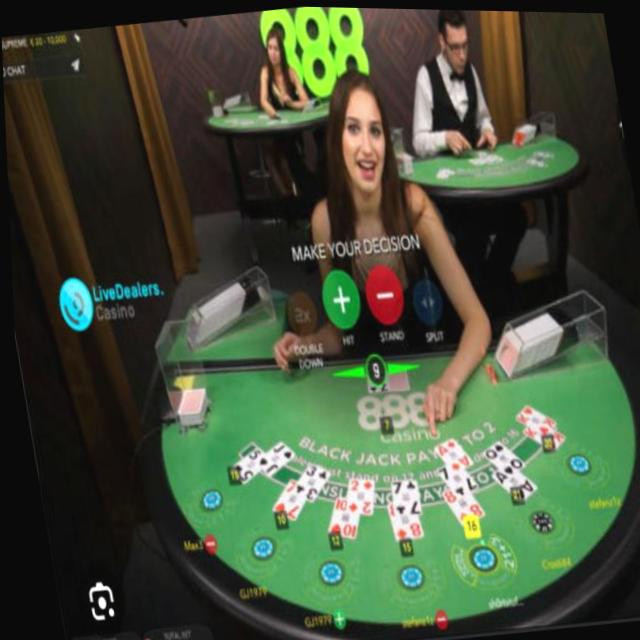Card-10: (323, 496, 354, 537)
Card-2: (341, 477, 370, 513)
Card-3: (288, 462, 326, 502)
Card-5: (227, 444, 260, 484)
Card-7: (432, 461, 475, 498), (267, 475, 300, 520), (386, 478, 417, 515)
Card-8: (436, 485, 480, 526), (383, 501, 419, 540)
Card-A: (487, 466, 534, 501), (429, 435, 469, 473)
Card-J: (249, 439, 290, 477)
Card-K: (510, 402, 553, 437), (518, 425, 562, 447)
Card-Q: (477, 437, 521, 476)
